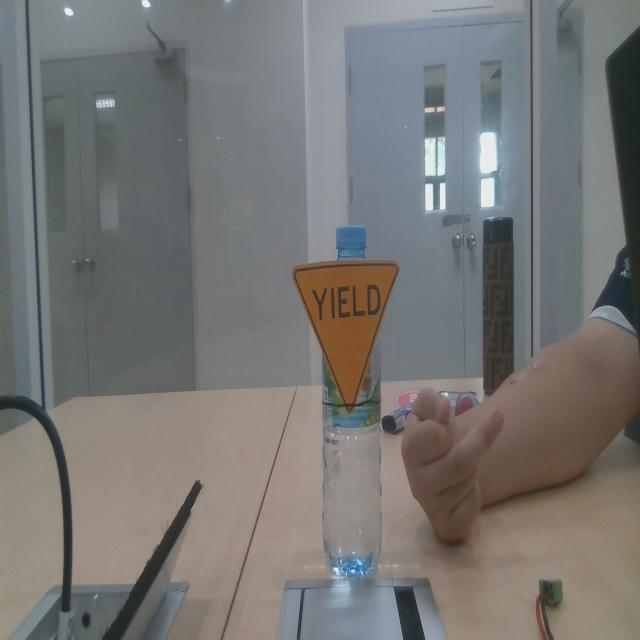Yield: (290, 258, 400, 412)
